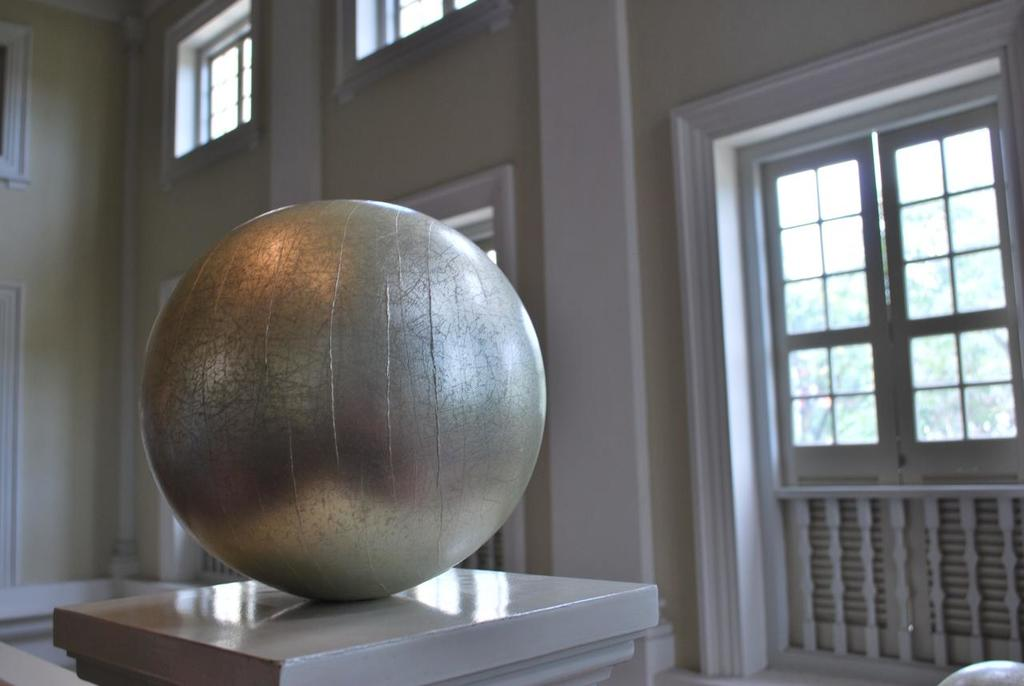Ball: (138, 199, 549, 600)
